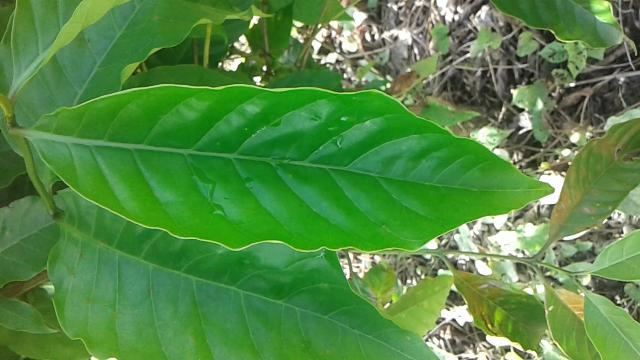healthy: (16, 84, 553, 254)
